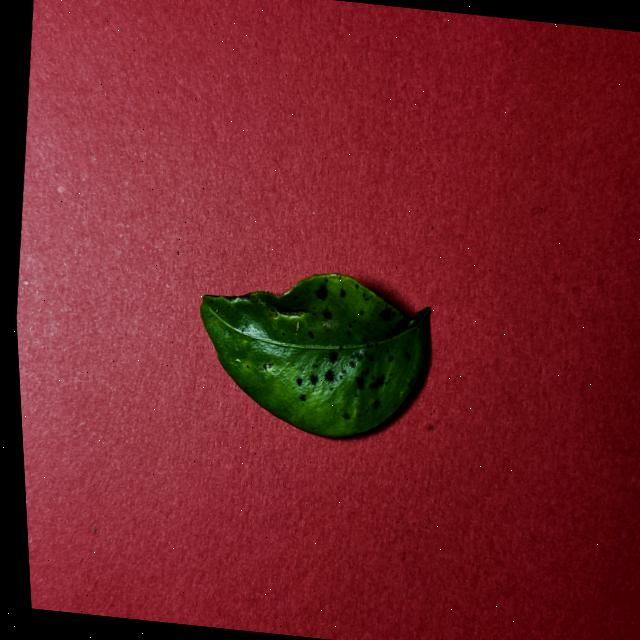sooty_mold: (199, 274, 428, 437)
